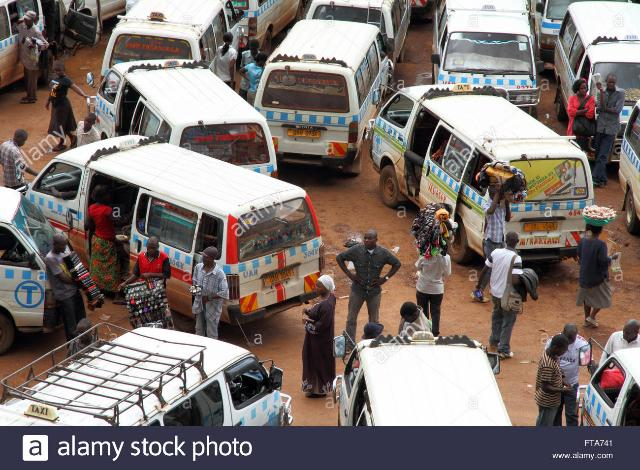van: (23, 132, 329, 345), (367, 81, 580, 256), (0, 320, 292, 426), (89, 60, 281, 183), (332, 331, 516, 425), (275, 11, 365, 176), (434, 0, 542, 106), (575, 338, 640, 426)
